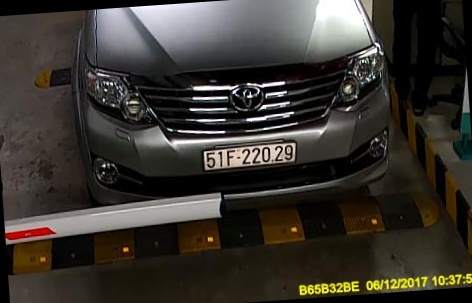plate: (192, 142, 301, 172)
